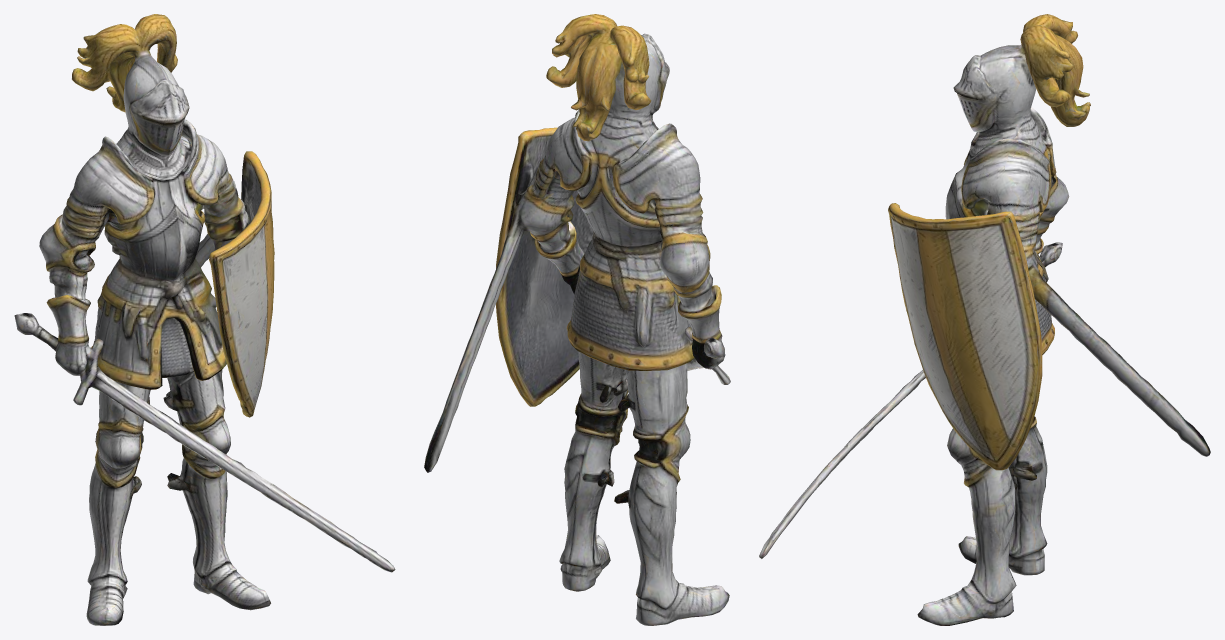
The model's file is Guelphs_Knight_1h.glb.
The picture shows the model from 3 angles, left to right: view 1: azimuth 30°, elevation 25°; view 2: azimuth 150°, elevation 25°; view 3: azimuth 270°, elevation 25°; orthographic projection. The views are drawn at different scales.
Bounding box in the file's own units: 0.8219 × 1.91 × 1.37.
Materials: 1 (1 with a texture image).
